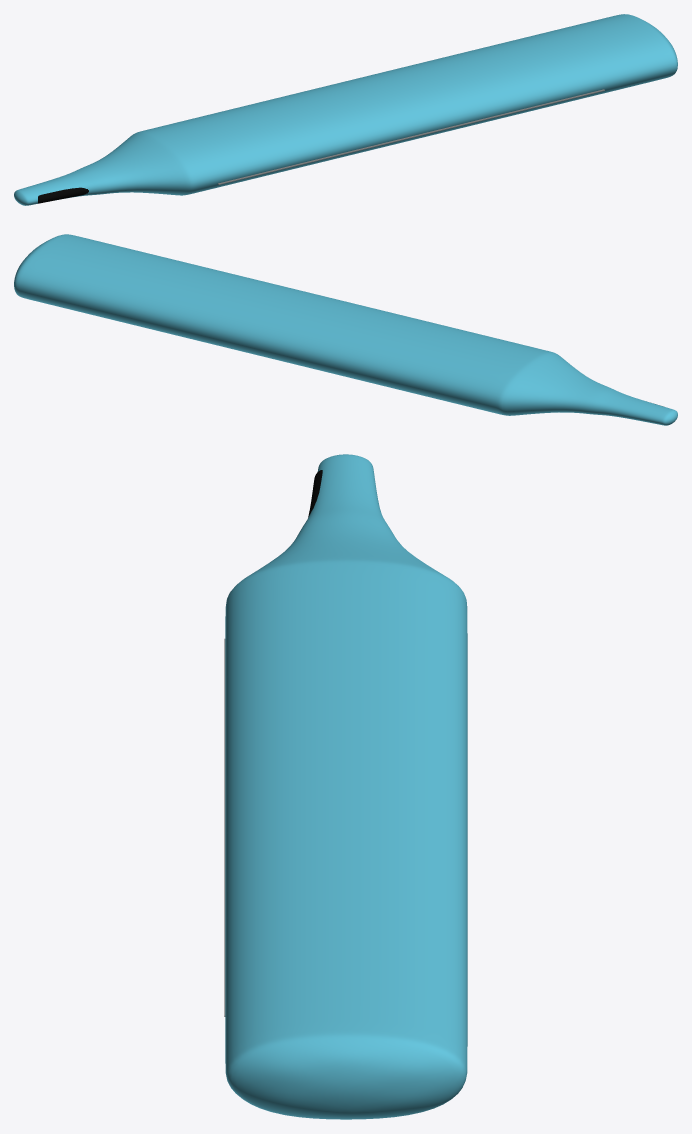
File: 温度计.FBX
3 views of the same model, one above another, from view 1: azimuth 30°, elevation 25°; view 2: azimuth 150°, elevation 25°; view 3: azimuth 270°, elevation 25° (orthographic). The views are drawn at different scales.
Visible parts, largest first — view 1: 温度计5, 温度计4, 温度计1; view 2: 温度计5; view 3: 温度计5.
Boxes of the visible parts, x1,y1,x2,y2 form: 温度计5: [14, 14, 677, 205]; 温度计4: [218, 89, 604, 184]; 温度计1: [38, 187, 88, 203]; 温度计5: [14, 234, 677, 425]; 温度计5: [225, 454, 467, 1119].
Size of the model in its own units: 12.69 by 0.802 by 2.08.
